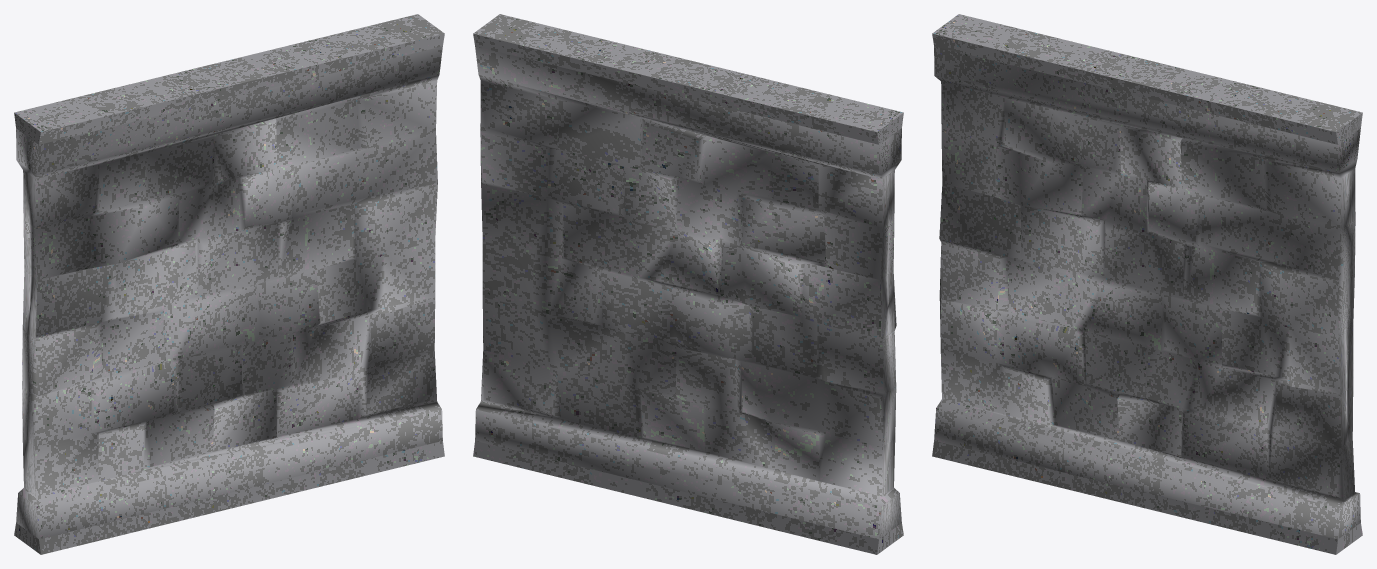
File: PSX Style Wall 2.glb
3 renders of one model, left to right at view 1: azimuth 30°, elevation 25°; view 2: azimuth 150°, elevation 25°; view 3: azimuth 330°, elevation 25°, orthographic.
Visible parts, largest first — view 1: BaseWall; view 2: BaseWall; view 3: BaseWall.
Boxes of the visible parts, x1,y1,x2,y2 form: BaseWall: (14,14,444,554); BaseWall: (473,14,903,554); BaseWall: (932,14,1362,554).
Bounding box in the file's own units: 1 × 0.9994 × 0.1149.
Materials: 1 (1 with a texture image).
